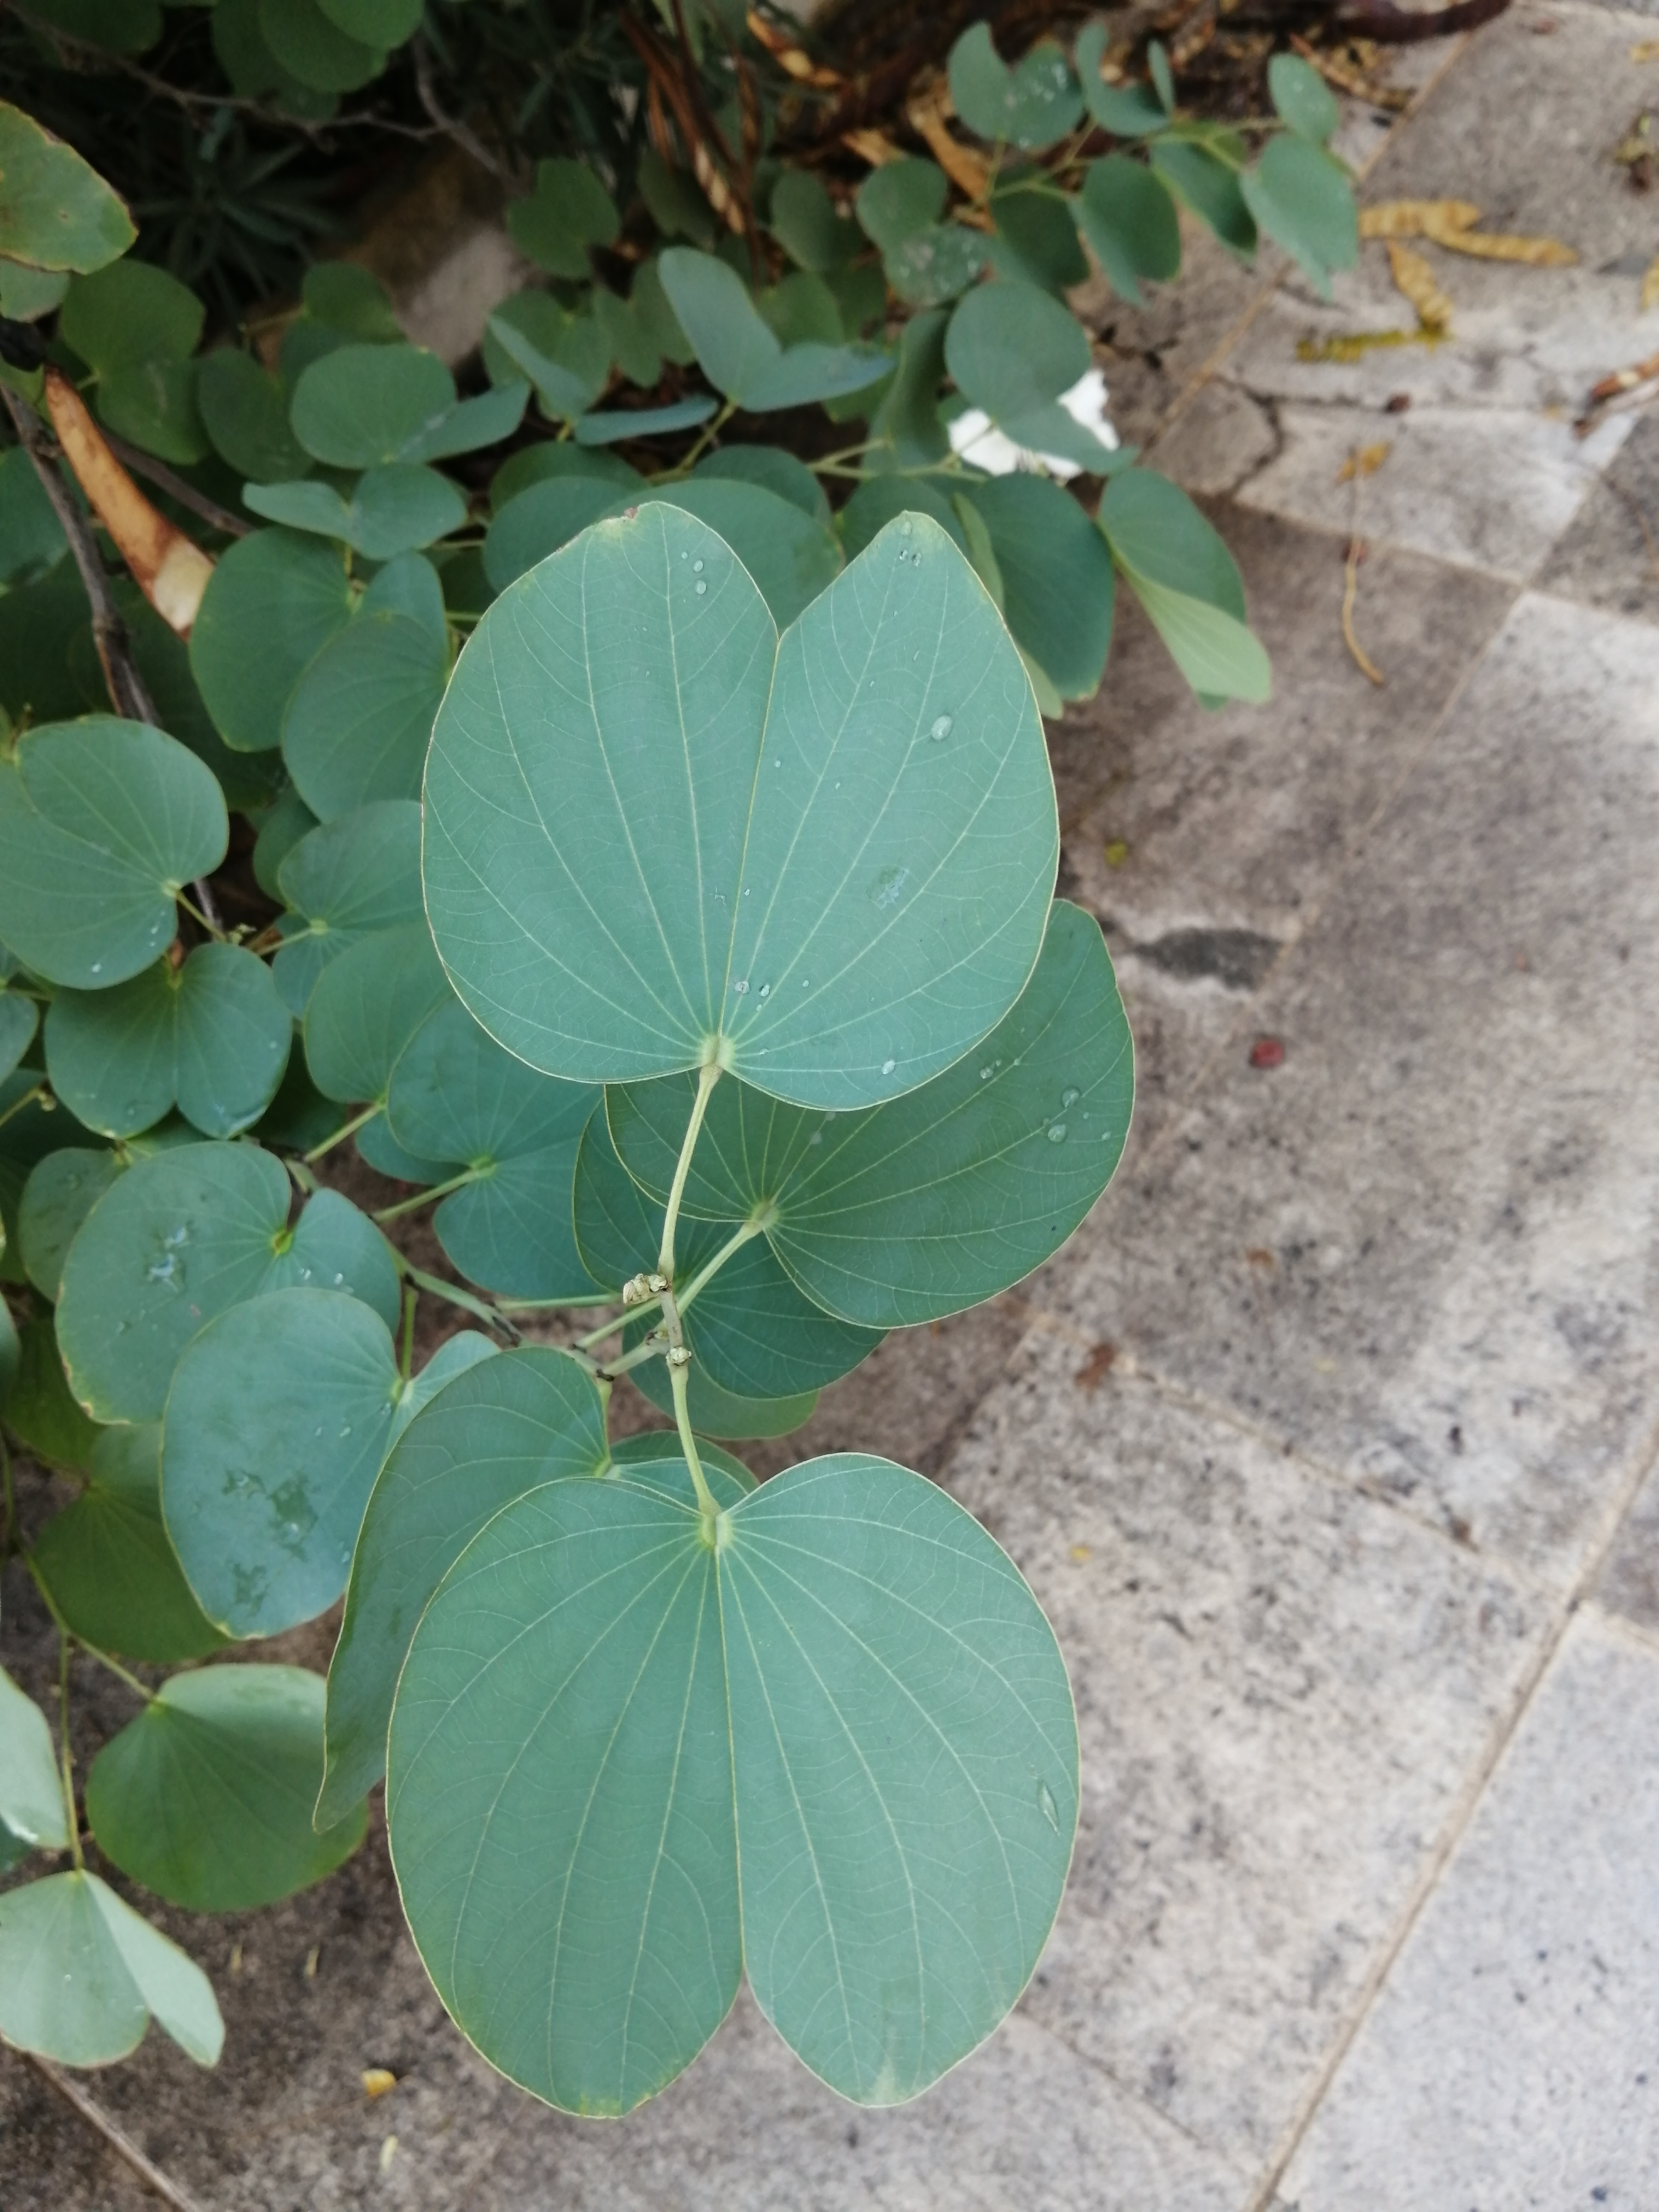healthy: (305, 1390, 1218, 2139), (408, 463, 1112, 1158), (167, 1291, 519, 1630), (77, 1167, 436, 1414), (0, 730, 275, 1026), (96, 1648, 333, 1921), (35, 930, 317, 1137), (1234, 139, 1392, 268)
